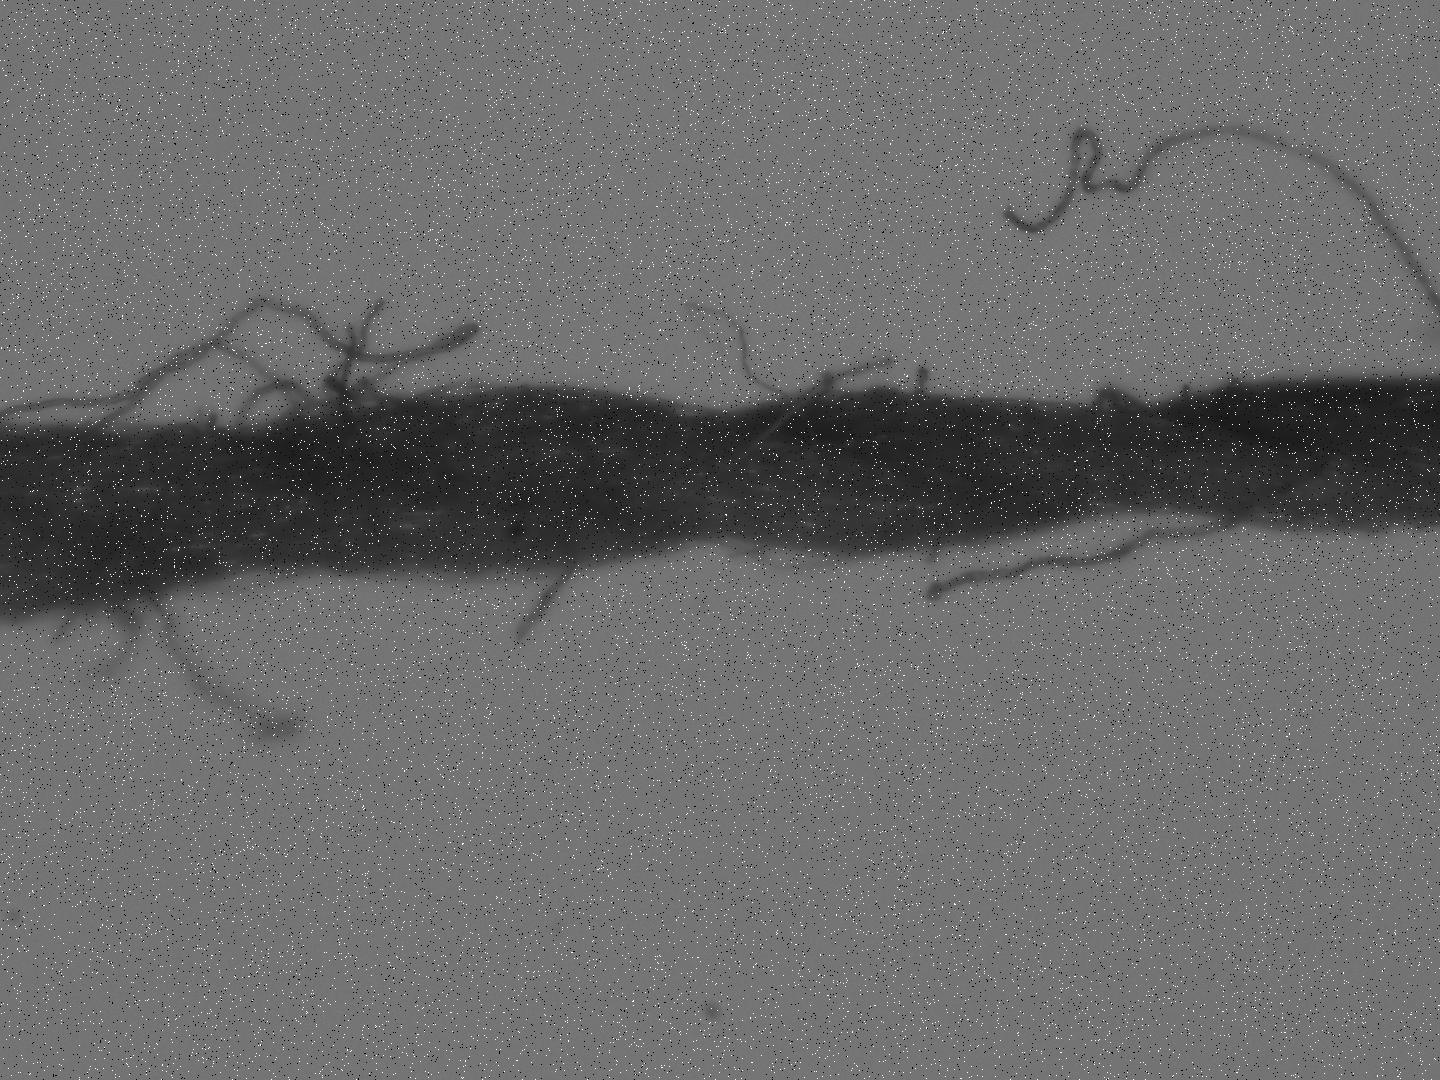loop_fiber: (1, 296, 482, 437), (696, 534, 873, 575), (200, 566, 297, 592), (1087, 383, 1152, 411), (915, 360, 931, 397)
protruding_fiber: (1000, 120, 1440, 372), (921, 515, 1248, 601), (147, 588, 306, 742), (683, 296, 786, 403), (320, 299, 386, 413), (510, 560, 582, 648), (85, 597, 144, 693), (804, 356, 891, 398), (49, 602, 95, 643)
